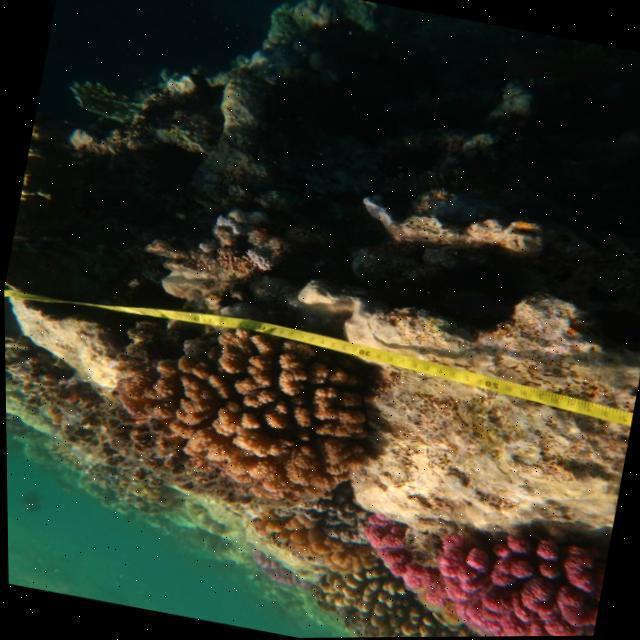Healthy Coral: (108, 317, 393, 517), (334, 479, 612, 639)
